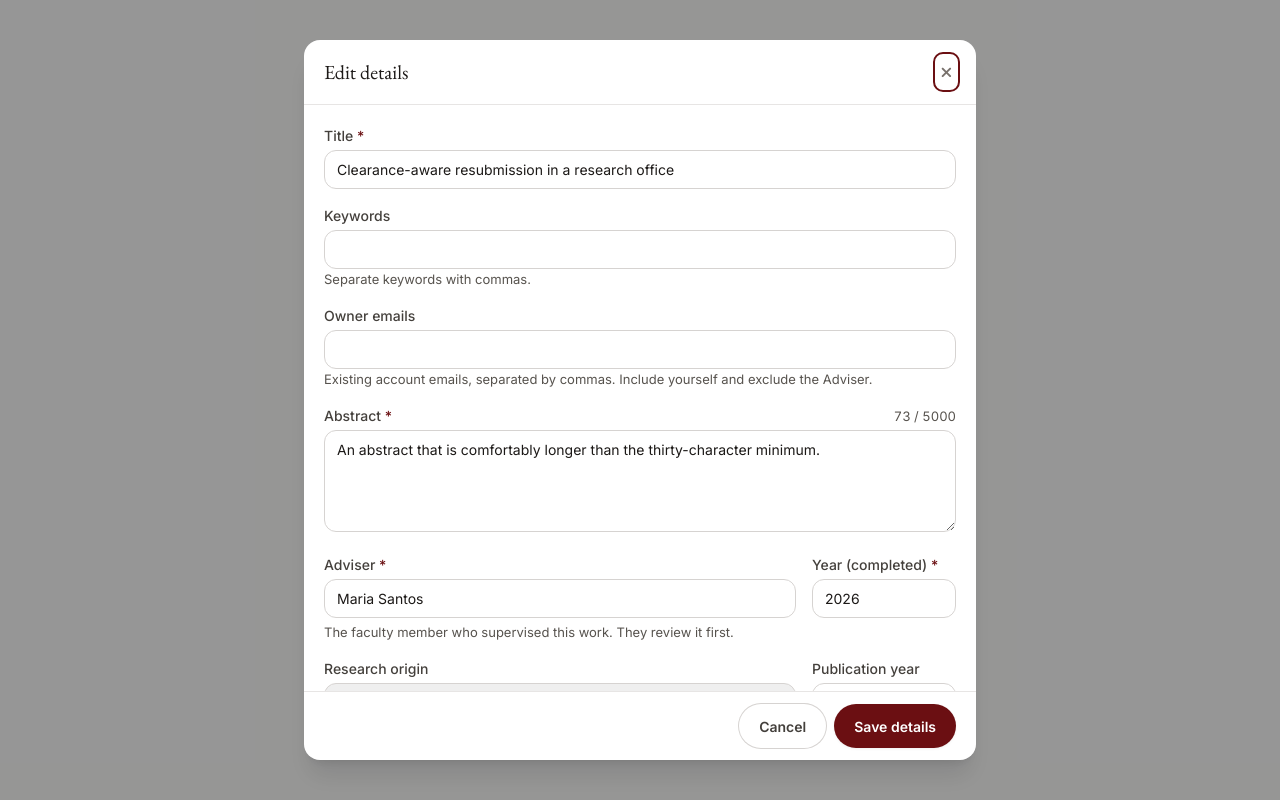
Scenario: Edit details › does not save details the schema refuses, and says which
Clear the field labelled "Title *". click: (640, 170)
box: [324,150,956,189]
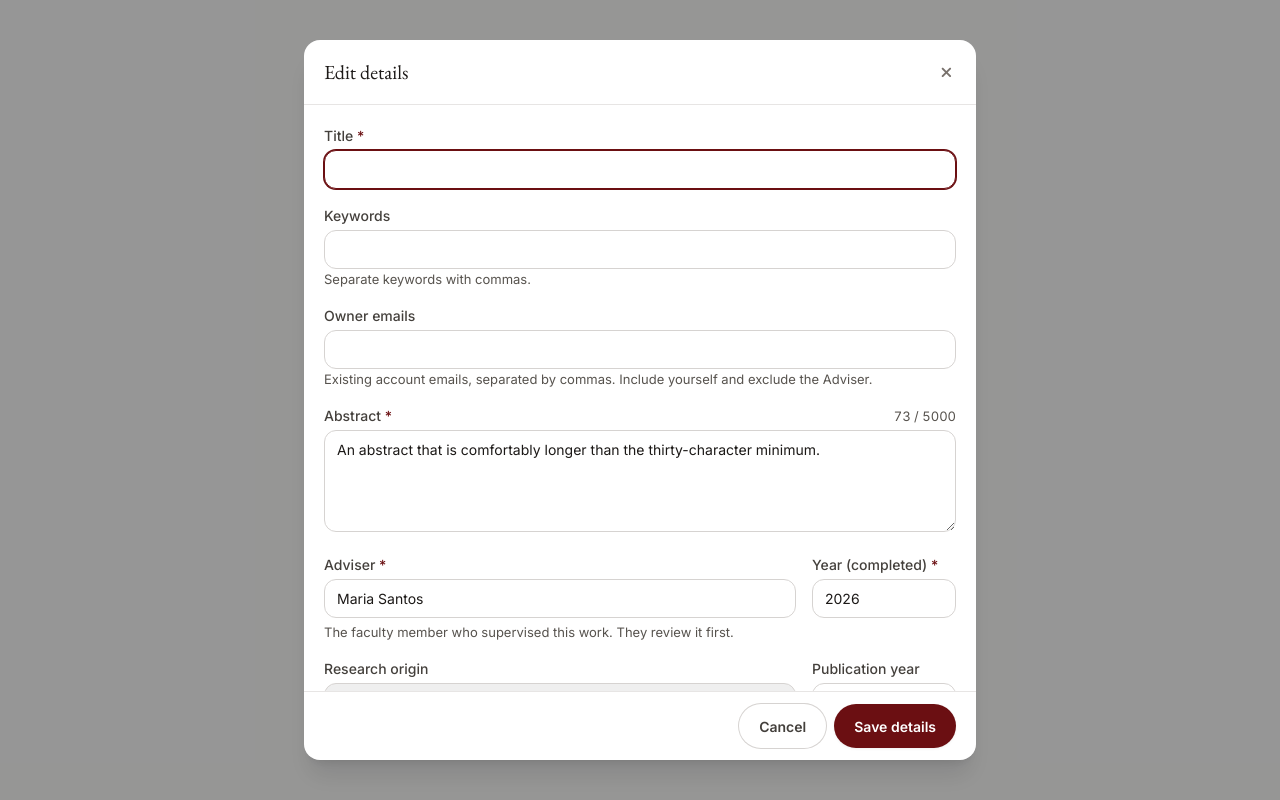
Click the button "Save details". click: (895, 726)
box: [834,704,956,748]
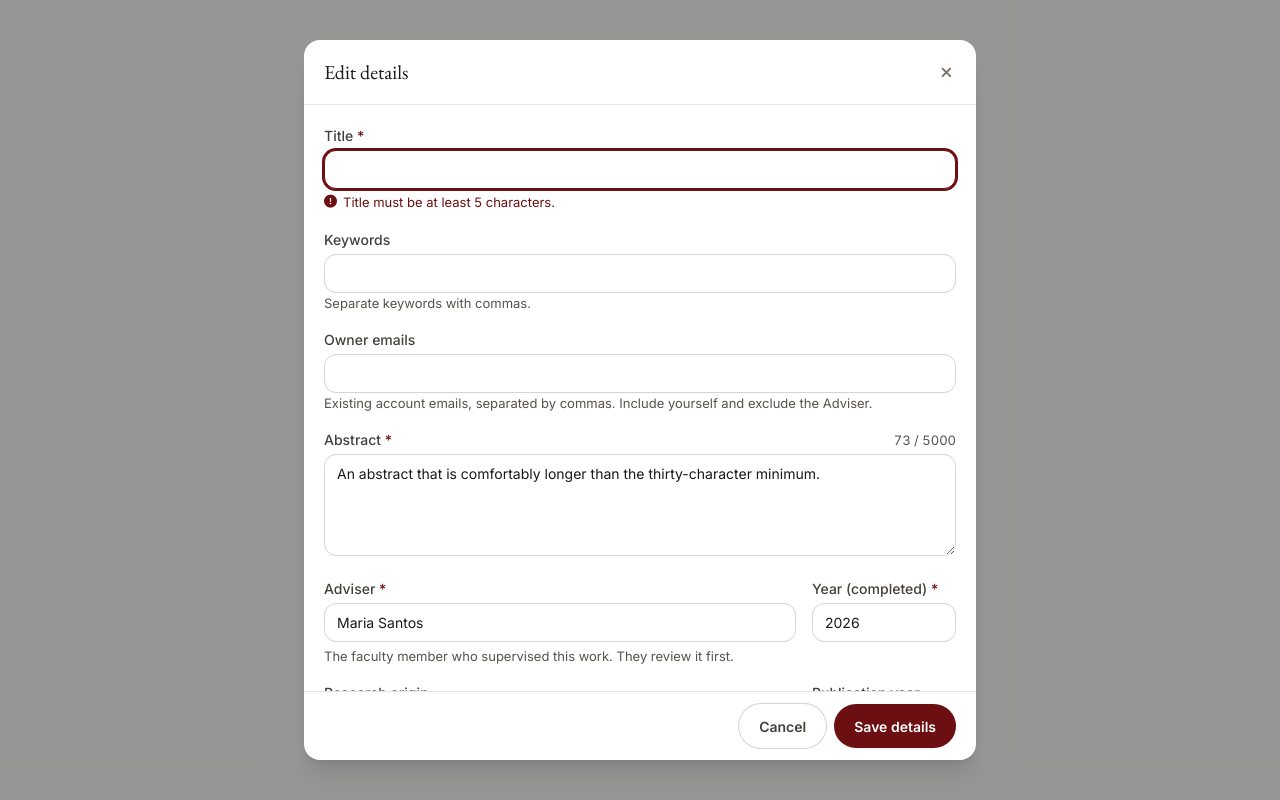
Result: the text "Title must be at least 5 characters." is shown at [324,194,555,210]
